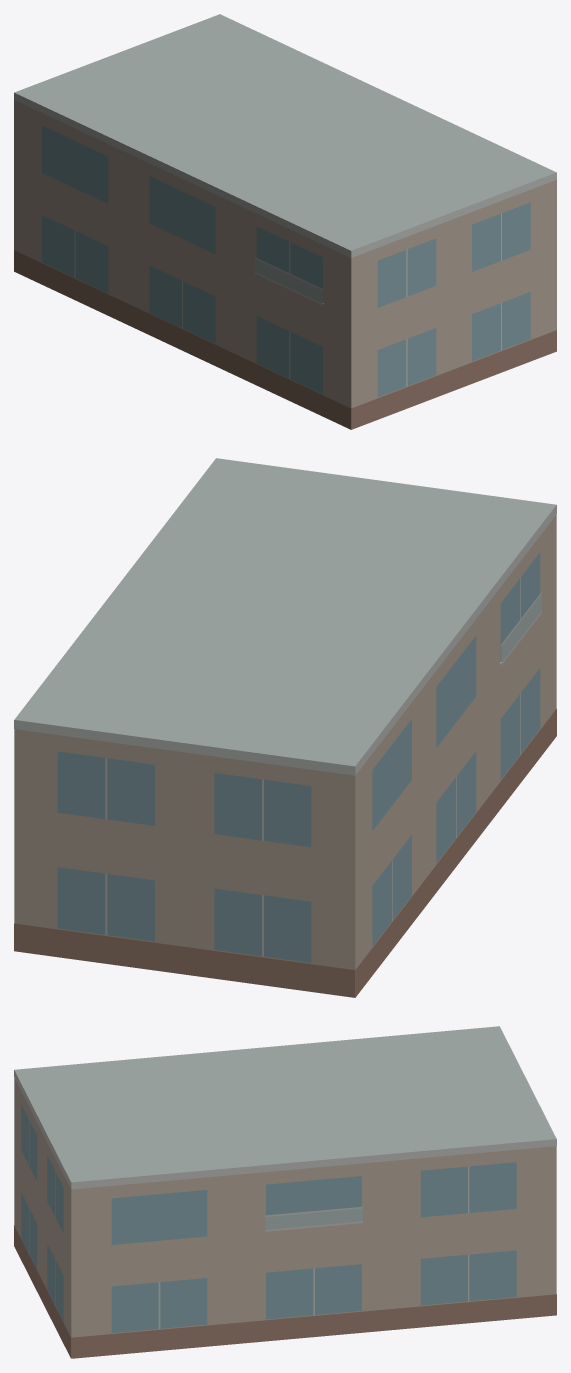
The model's file is survey-upis-33024140.glb.
3 views of the same model, one above another, from view 1: azimuth 30°, elevation 25°; view 2: azimuth 150°, elevation 25°; view 3: azimuth 270°, elevation 25° (orthographic). The views are drawn at different scales.
Visible parts, largest first — view 1: survey-upis-33024140.tmp; view 2: survey-upis-33024140.tmp; view 3: survey-upis-33024140.tmp.
Boxes of the visible parts, <box> form: survey-upis-33024140.tmp: <box>14,14,556,429</box>; survey-upis-33024140.tmp: <box>14,458,556,997</box>; survey-upis-33024140.tmp: <box>14,1026,556,1358</box>.
Bounding box in the file's own units: 11.61 × 6.1 × 17.03.
